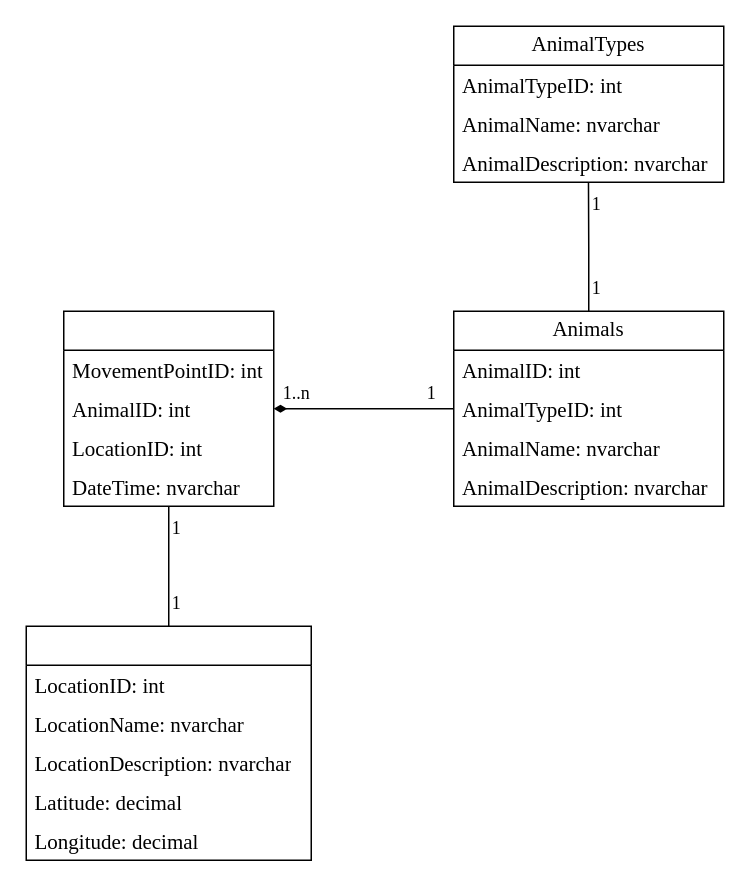
The diagram is 750 pixels wide and 891 high, and some of its shapes have lost their labels. Each missing label, with the box of its shape:
Locations: (25, 625, 311, 860)
MovementPoints: (62, 310, 274, 506)
